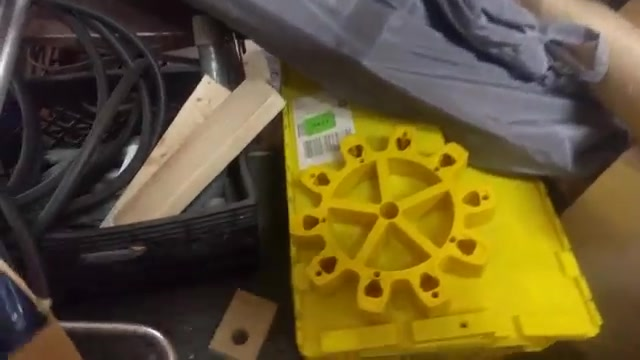gear: (279, 123, 503, 323)
